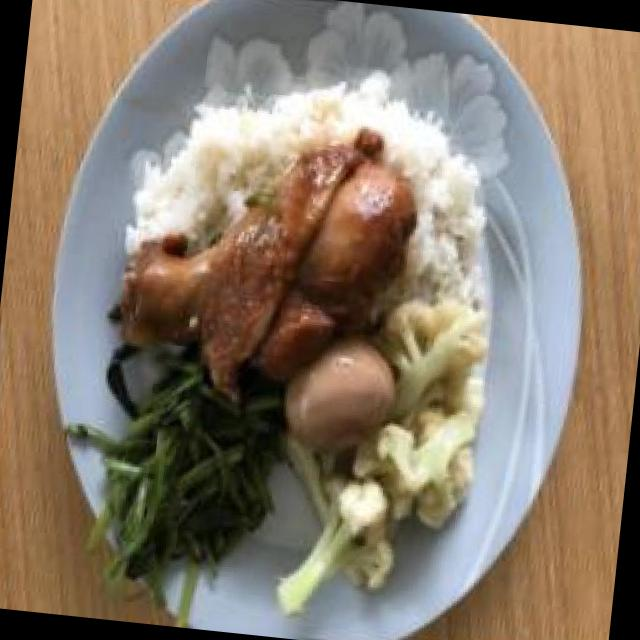rice: (127, 83, 296, 253), (402, 112, 504, 310)
water_spinach: (46, 324, 312, 628)
